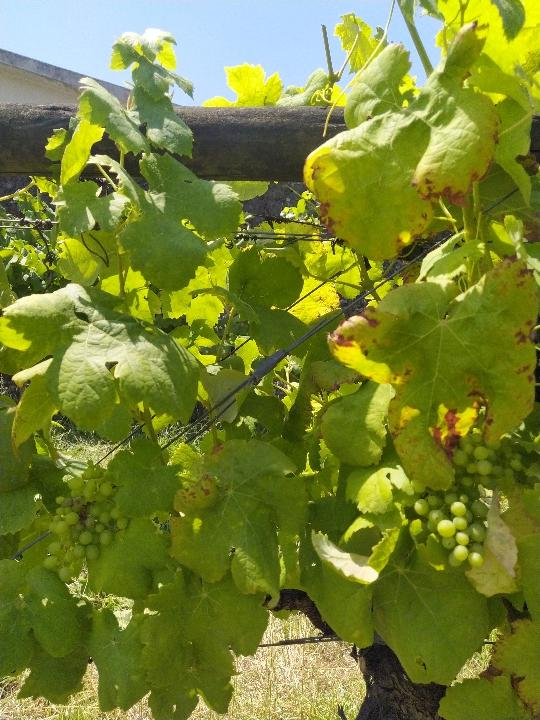grape: (411, 425, 503, 569), (40, 465, 130, 584)
